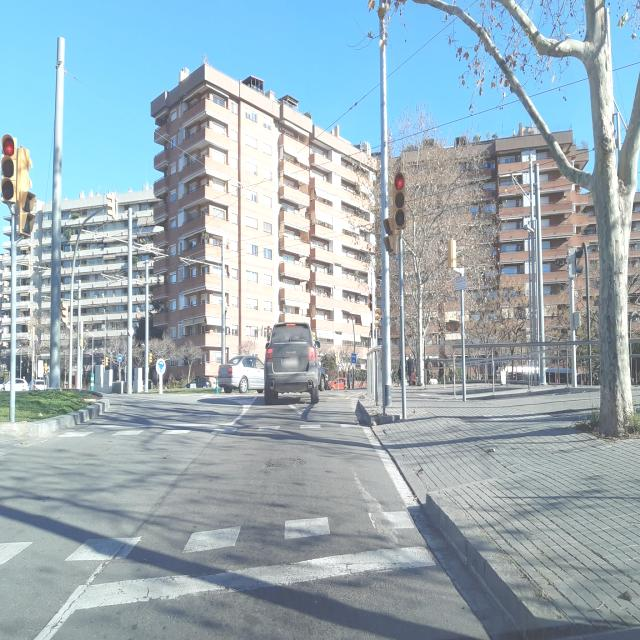car: (264, 323, 320, 404), (217, 353, 265, 393), (7, 378, 30, 393), (32, 376, 48, 390)
